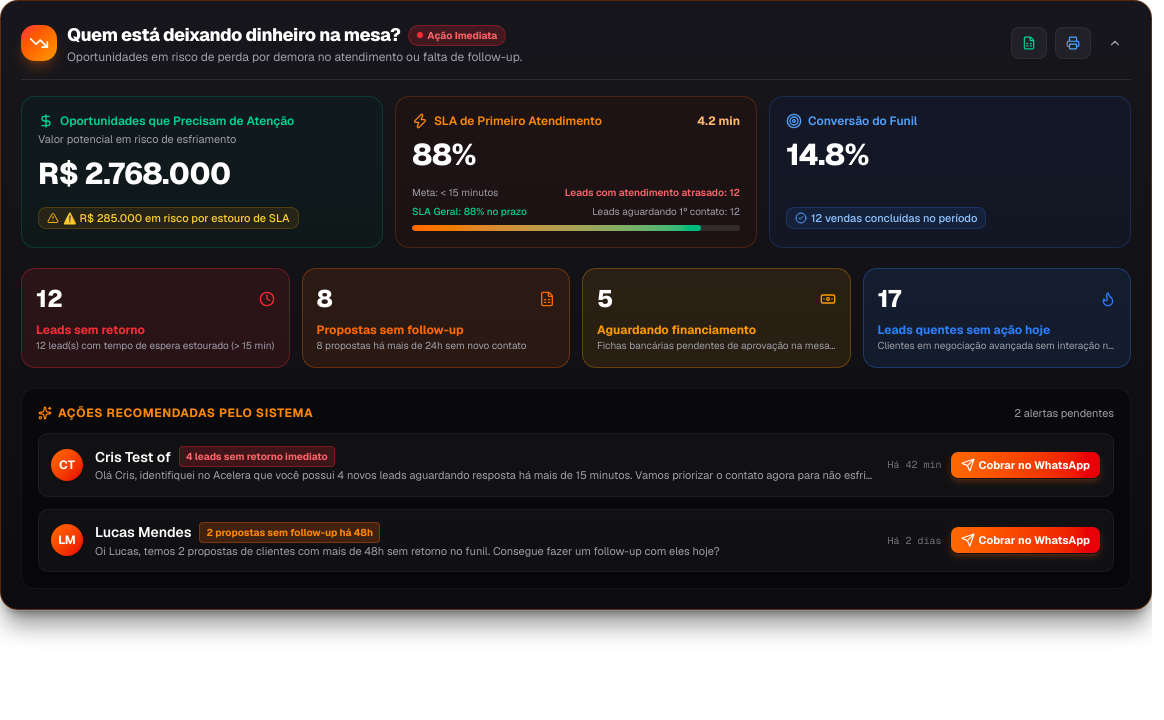
Test case: [IT-21] Cockpit Executivo 'Dinheiro na Mesa' (ManagerActionCockpit) › [IT-21.4] Deve acionar cobrança no WhatsApp do vendedor ao clicar no botão de ação
Click the button with aria-label "cobrar cris test of no whatsapp" at coordinates (1025, 465), box [950, 451, 1101, 479]
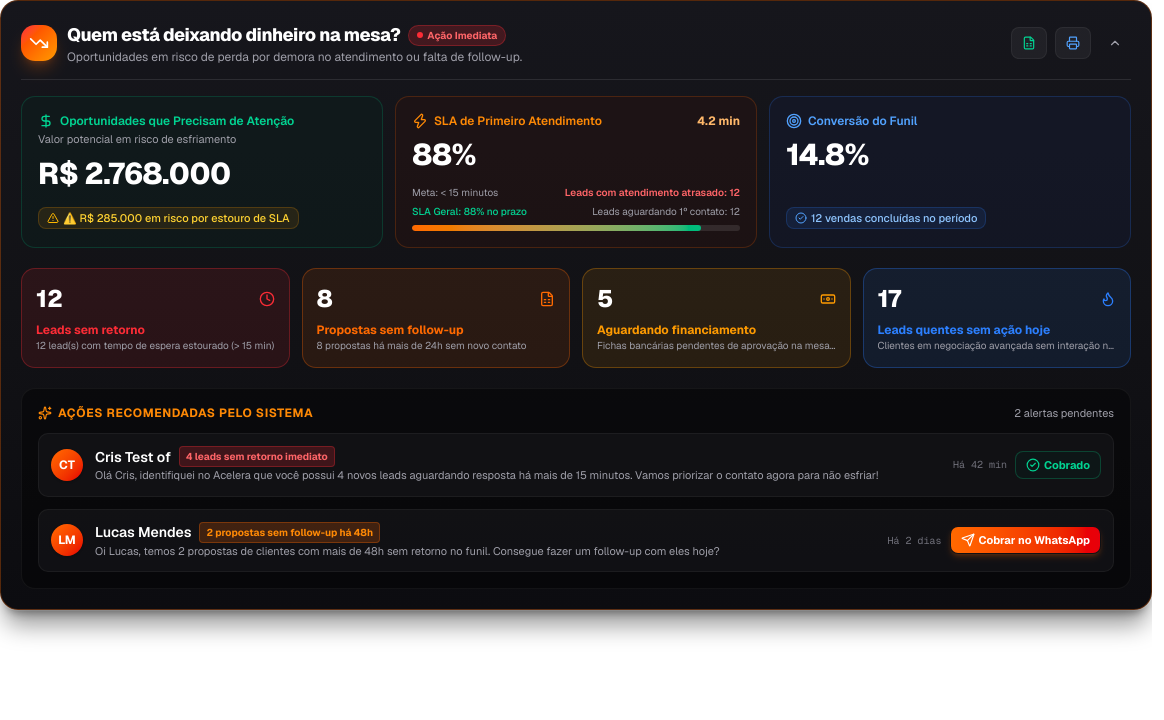
expect the text "Cobrado" is shown: met, box [1044, 456, 1090, 473]
